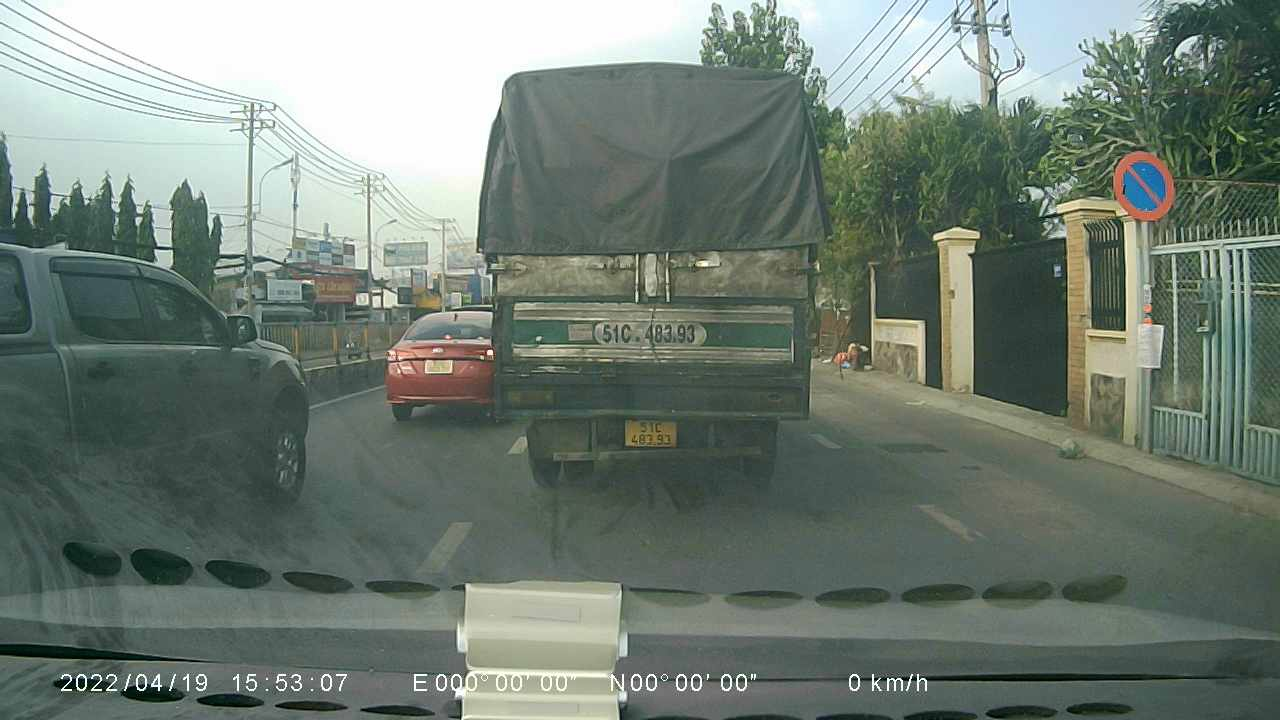Cam do xe: (1111, 148, 1176, 220)
